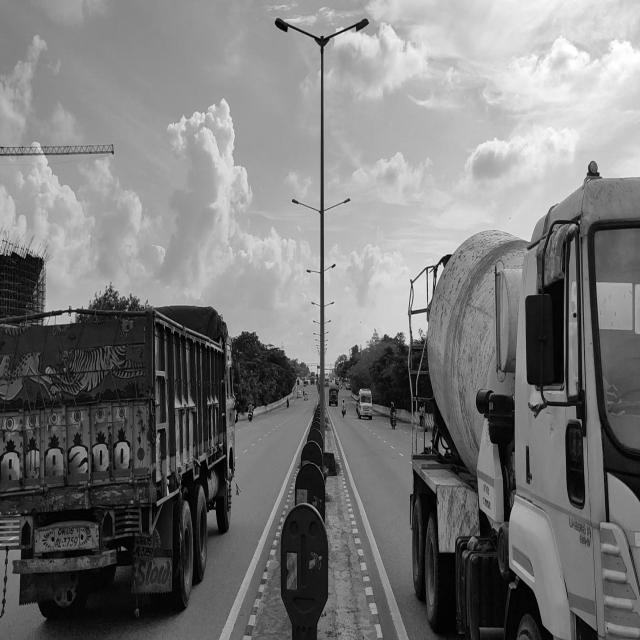truck: (401, 150, 640, 640), (0, 295, 243, 619)
